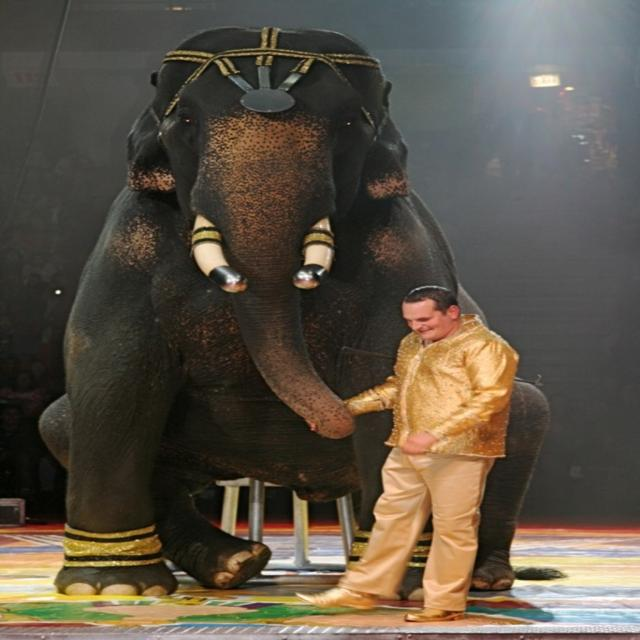elephant: (37, 27, 550, 592)
